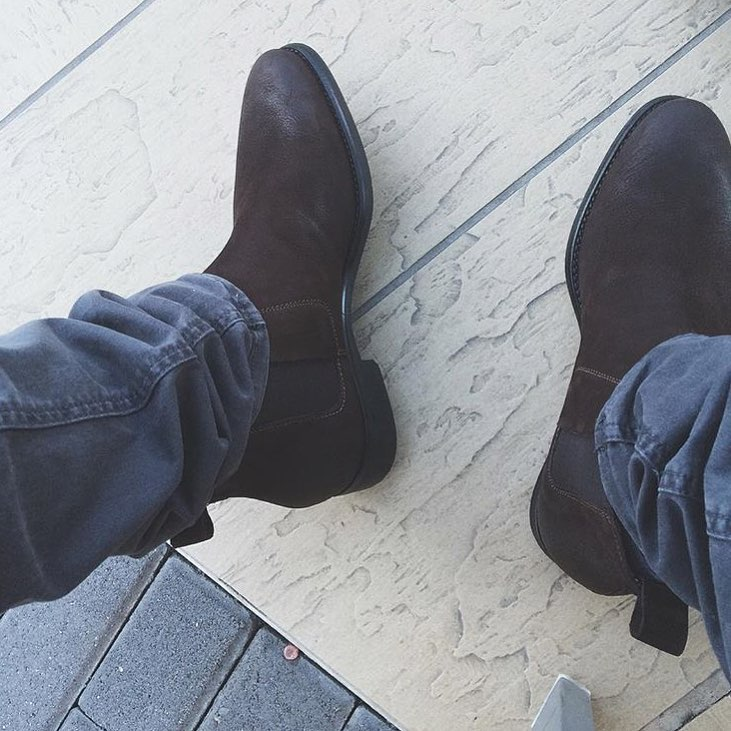sneaker: (151, 12, 421, 565), (491, 66, 731, 672)
